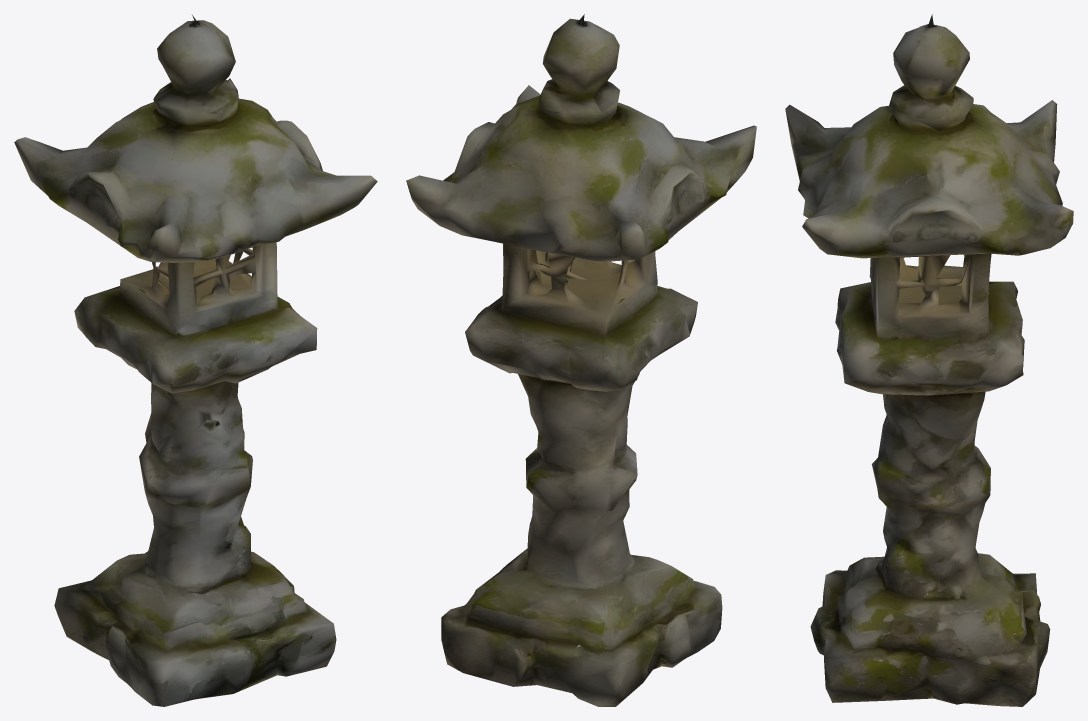
The model's file is ishidoro.glb.
The picture shows the model from 3 angles, left to right: view 1: azimuth 30°, elevation 25°; view 2: azimuth 150°, elevation 25°; view 3: azimuth 270°, elevation 25°; orthographic projection.
Parts seen in each view (by area): view 1: tripo_node_a9891844-a215-49cd-ba69-d32ac28e5beb; view 2: tripo_node_a9891844-a215-49cd-ba69-d32ac28e5beb; view 3: tripo_node_a9891844-a215-49cd-ba69-d32ac28e5beb.
Boxes of the visible parts, bbox=[...] form: tripo_node_a9891844-a215-49cd-ba69-d32ac28e5beb: bbox=[14, 15, 377, 706]; tripo_node_a9891844-a215-49cd-ba69-d32ac28e5beb: bbox=[406, 14, 756, 706]; tripo_node_a9891844-a215-49cd-ba69-d32ac28e5beb: bbox=[785, 14, 1073, 706].
Bounding box in the file's own units: 0.3926 × 0.9998 × 0.4038.
1 material, 1 textured.
